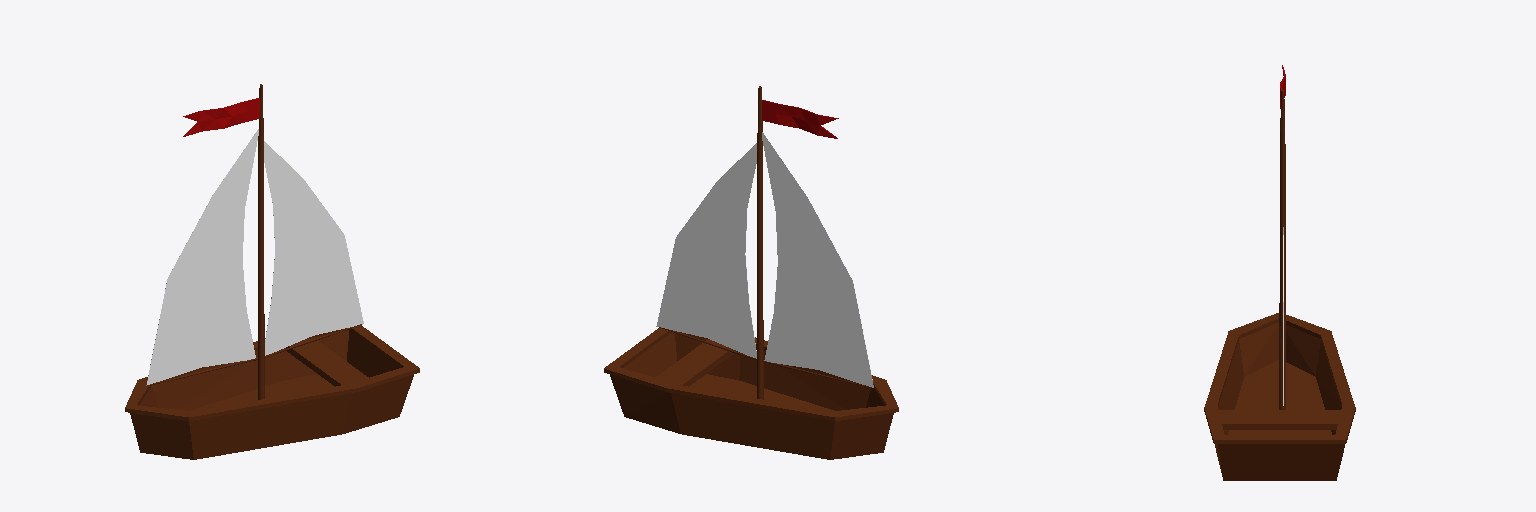
File: sailboat.obj
The picture shows the model from 3 angles: view 1: azimuth 30°, elevation 25°; view 2: azimuth 150°, elevation 25°; view 3: azimuth 270°, elevation 25°; orthographic projection.
Visible parts, largest first — view 1: sailboat_Pyramid002; view 2: sailboat_Pyramid002; view 3: sailboat_Pyramid002.
Part boxes in pixels (x1,y1,x2,y2): sailboat_Pyramid002: (125, 84, 419, 459); sailboat_Pyramid002: (604, 86, 898, 459); sailboat_Pyramid002: (1204, 65, 1355, 480).
Size of the model in its own units: 4.55 by 5.59 by 2.27.